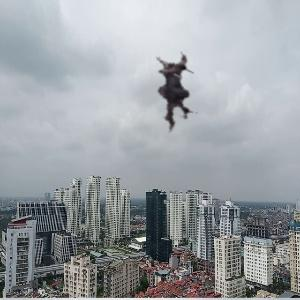drone: (123, 47, 216, 140)
